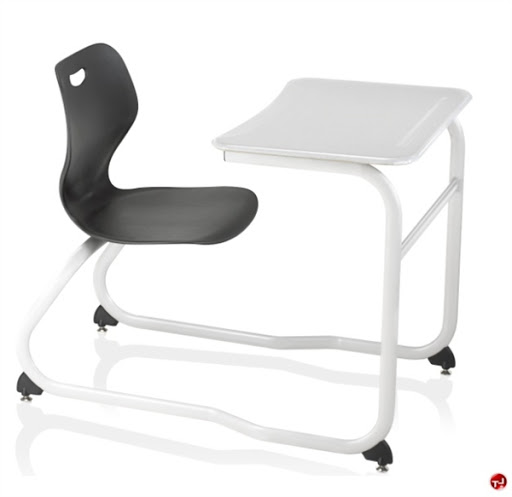desk: (3, 39, 472, 484)
